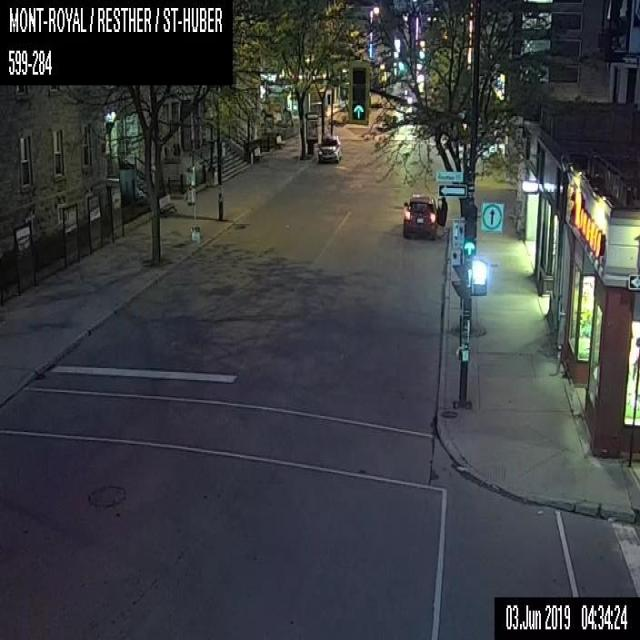pedestrian: (438, 196, 447, 235)
vehicle: (402, 194, 446, 237), (317, 135, 342, 162)
